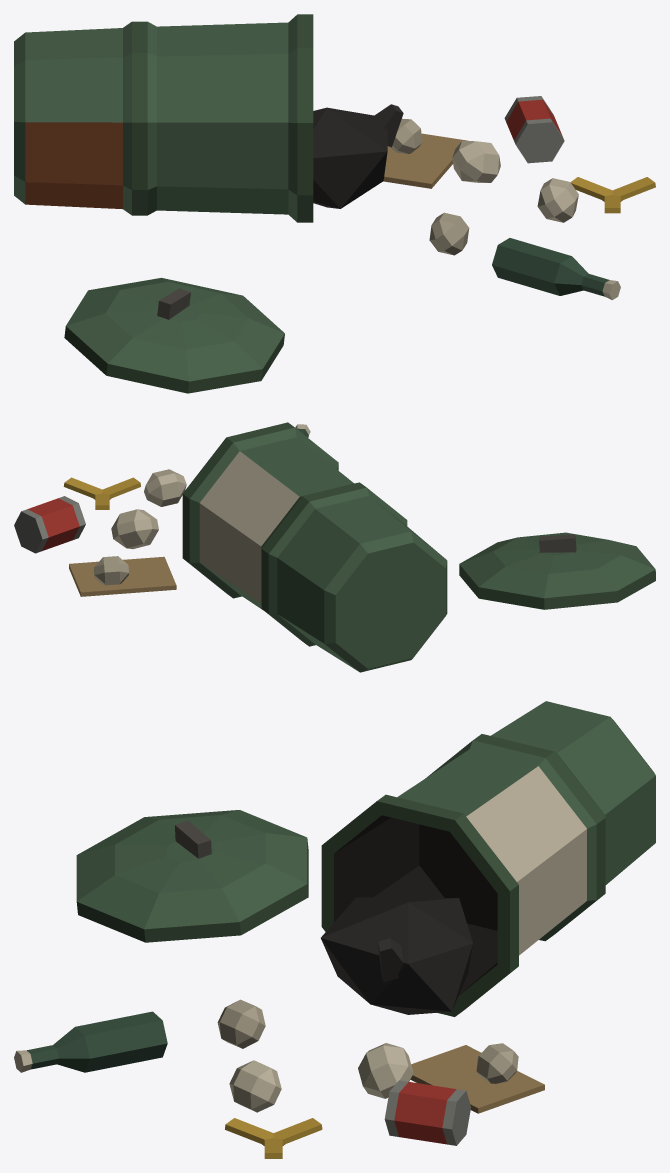
File: lixeira.glb
The picture shows the model from 3 angles, top to bottom: view 1: azimuth 30°, elevation 25°; view 2: azimuth 150°, elevation 25°; view 3: azimuth 270°, elevation 25°; orthographic projection. The views are drawn at different scales.
Parts seen in each view (by area): view 1: lixeira.001; view 2: lixeira.001; view 3: lixeira.001.
Boxes of the visible parts, left/top/right/bottom form: lixeira.001: left=14, top=14, right=655, bottom=393; lixeira.001: left=14, top=422, right=655, bottom=672; lixeira.001: left=14, top=701, right=655, bottom=1158.
Bounding box in the file's own units: 1.53 × 0.4647 × 1.26.
